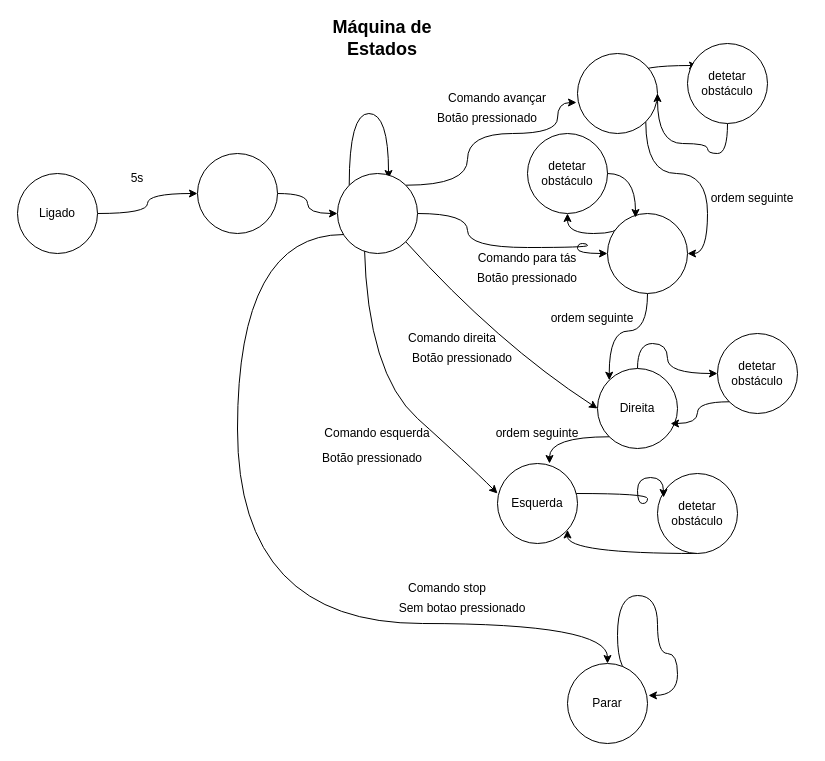
Some shapes in this 825 by 761 pixel diagram are drawn without their labels. Each missing label, with the box of its shape:
Aguardar emparelhamento: (196, 152, 278, 234)
Aguardar por comando: (336, 172, 418, 254)
Avançar: (576, 52, 658, 134)
Para trás: (606, 212, 688, 294)
